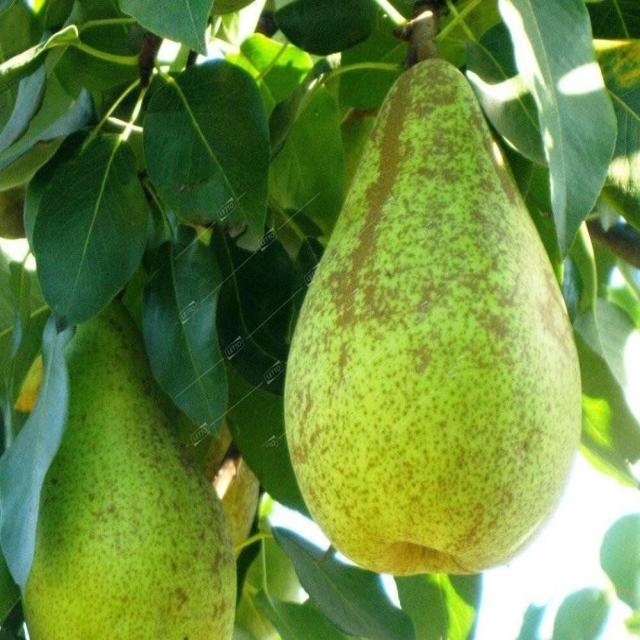pear: (16, 52, 586, 633), (282, 55, 584, 577), (18, 300, 240, 636)
